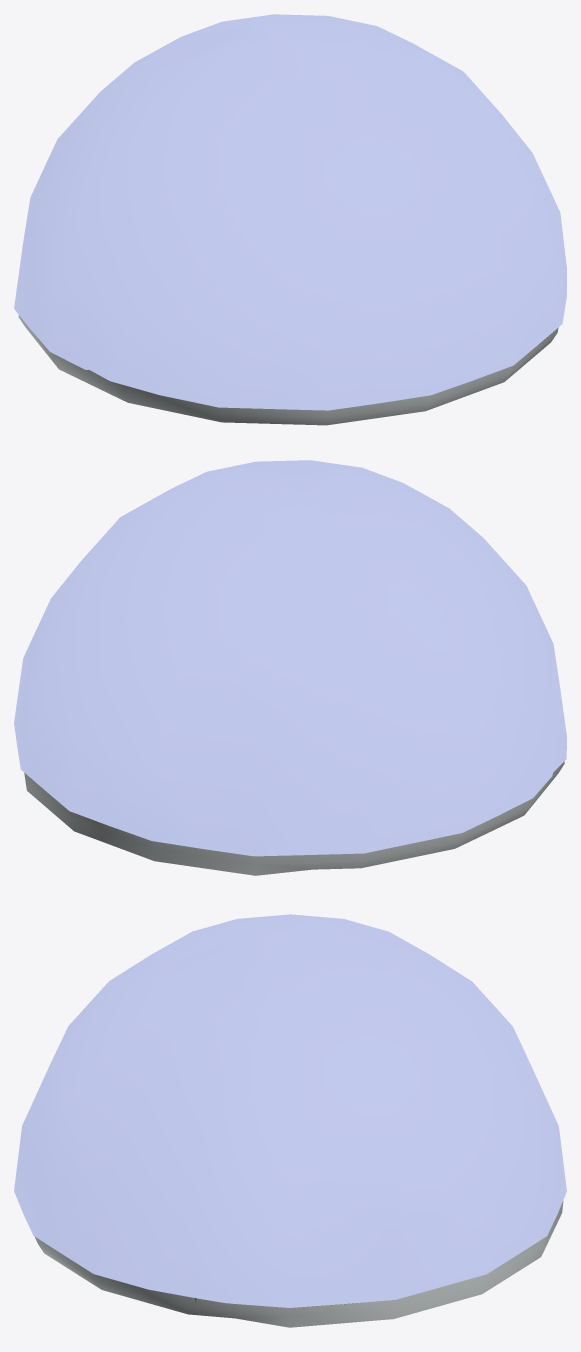
The model's file is pisa.dae.
The picture shows the model from 3 angles, top to bottom: view 1: azimuth 30°, elevation 25°; view 2: azimuth 150°, elevation 25°; view 3: azimuth 270°, elevation 25°; orthographic projection.
Parts seen in each view (by area): view 1: polySurface682, polySurface669; view 2: polySurface682, polySurface669; view 3: polySurface682, polySurface669.
Boxes of the visible parts, left/top/right/bottom form: polySurface682: left=14, top=14, right=566, bottom=410; polySurface669: left=18, top=315, right=558, bottom=425; polySurface682: left=14, top=460, right=566, bottom=856; polySurface669: left=24, top=761, right=564, bottom=875; polySurface682: left=14, top=914, right=566, bottom=1307; polySurface669: left=34, top=1201, right=563, bottom=1327.
Size of the model in its own units: 87.91 by 49.8 by 87.91.
